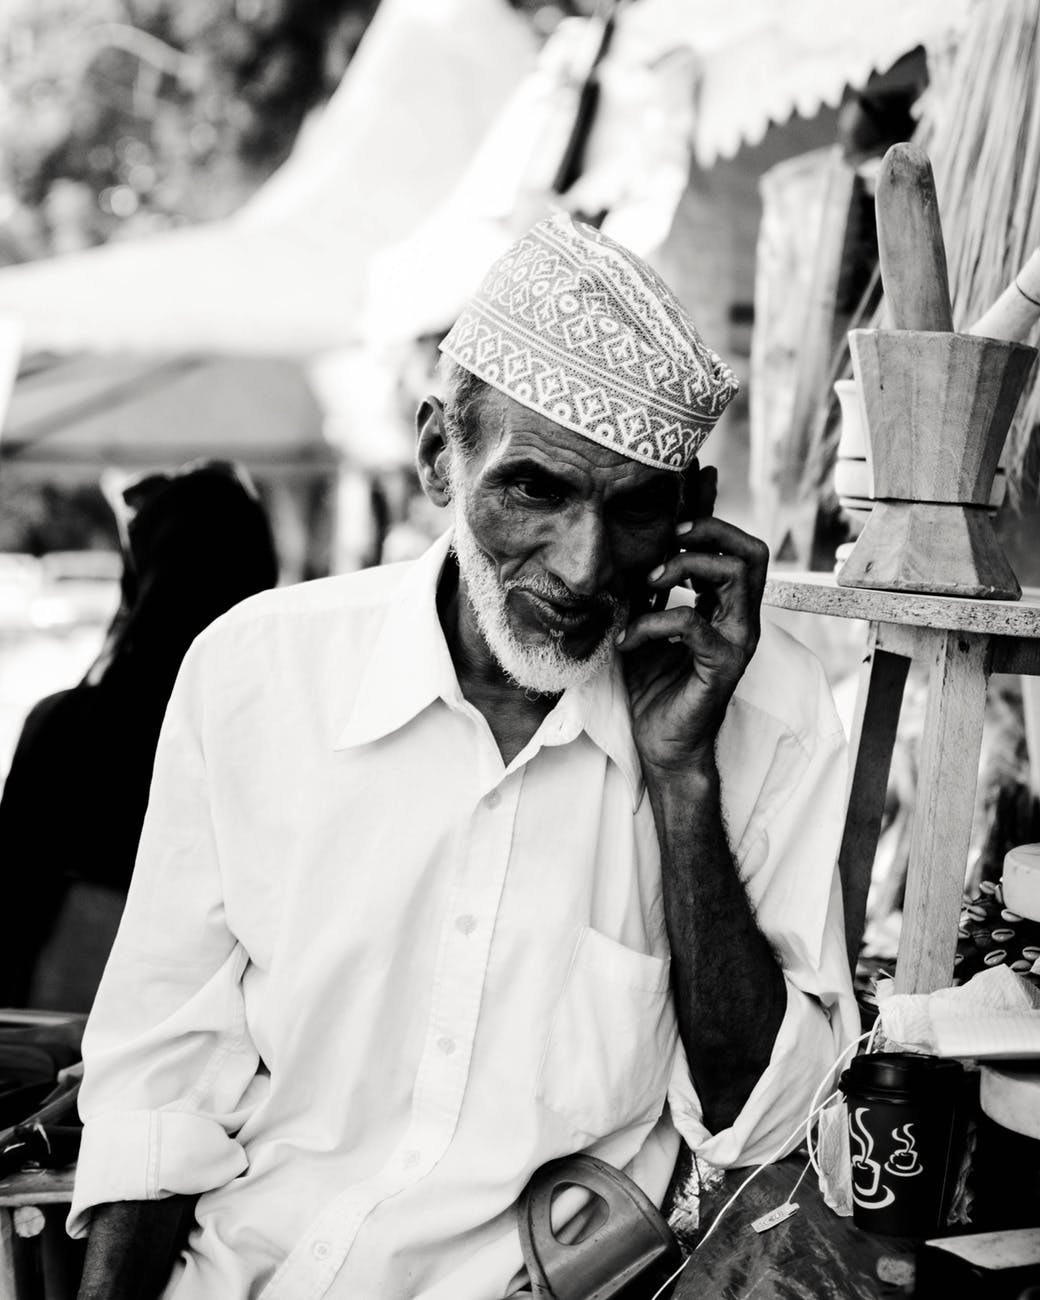phone: (613, 461, 717, 666)
talk: (466, 447, 766, 759)
